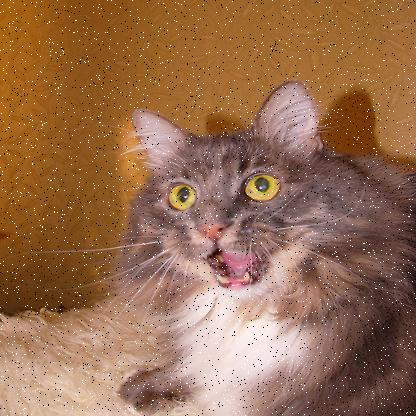cat: (110, 93, 415, 388)
